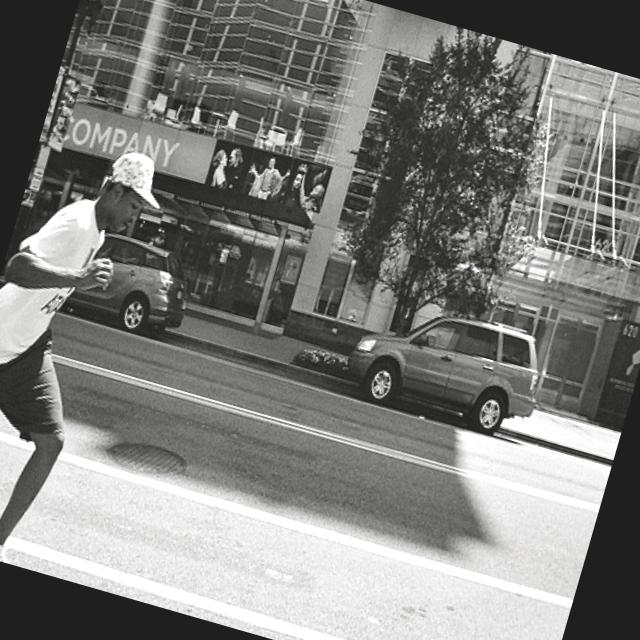Vehicle: (338, 288, 553, 446), (64, 228, 200, 345)
